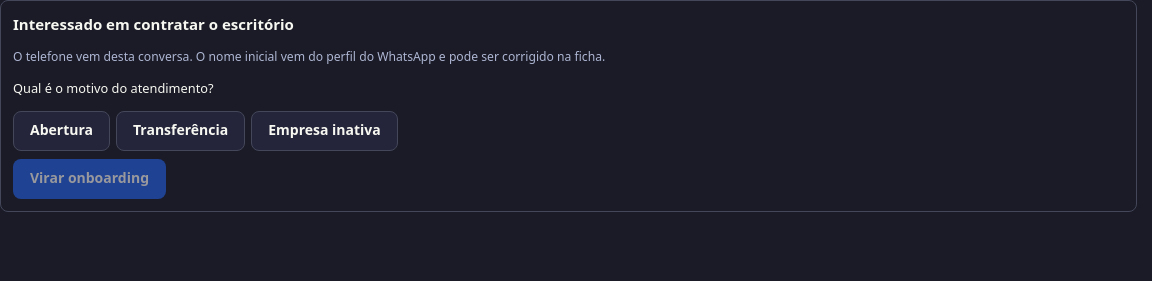
it: falha na releitura antes do POST permite tentar a conferência novamente
Step 1. Click the button "Abertura" → (62, 131), box [13, 111, 110, 151]
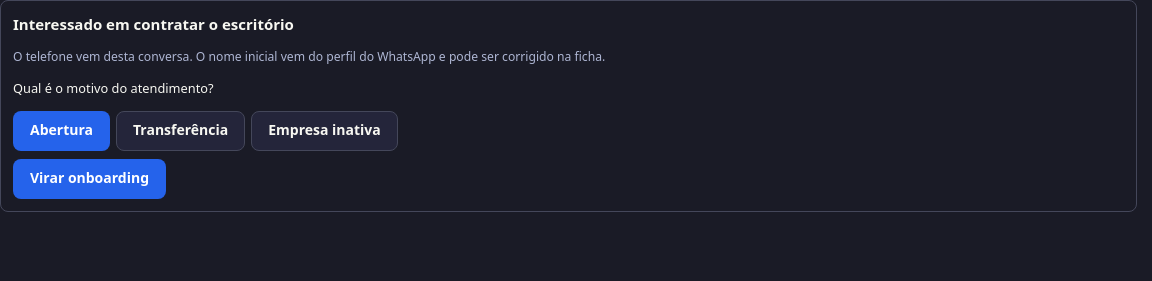
Step 2. Click the button "Virar onboarding" → (90, 179), box [13, 159, 166, 199]
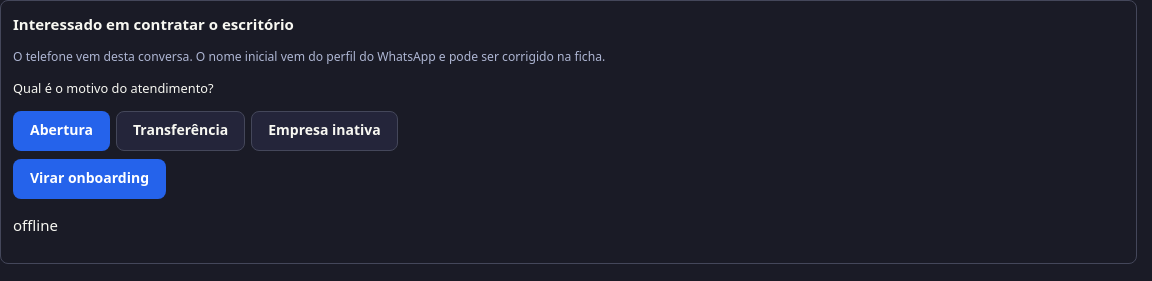
Result: the message "offline" is shown at [13, 215, 58, 235]
Step 3. Click the button "Virar onboarding" → (90, 179), box [13, 159, 166, 199]
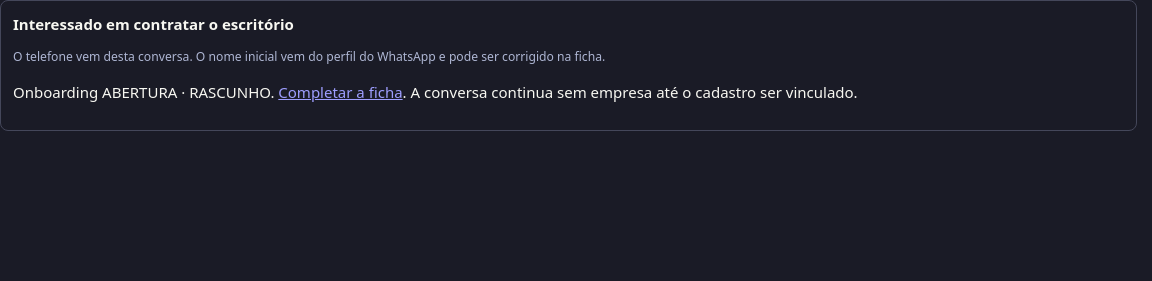
Result: the text "A conversa continua sem empresa" is shown at [403, 82, 858, 102]
